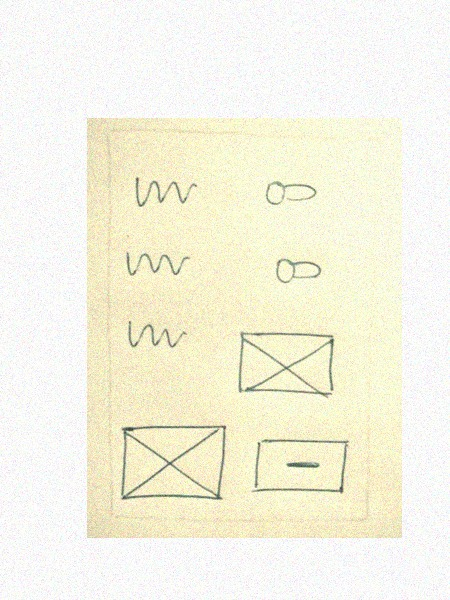button: (250, 434, 351, 500)
image: (117, 423, 228, 504), (234, 328, 337, 401)
switch: (260, 174, 323, 213), (269, 251, 325, 290)
text: (121, 316, 194, 362), (123, 245, 192, 284), (128, 173, 199, 209)
